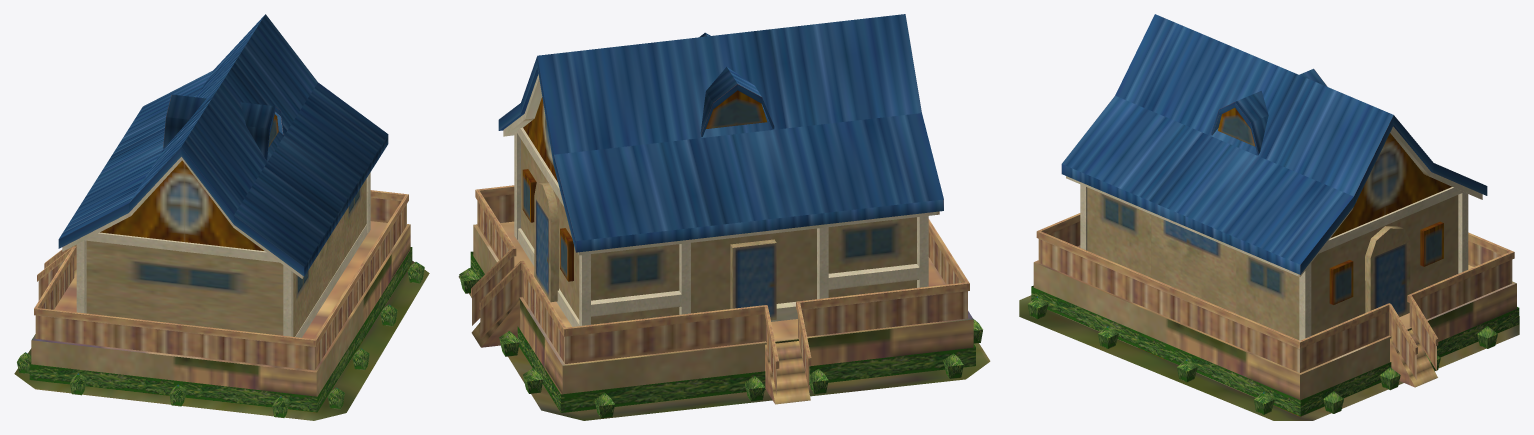
The model's file is ic_game.ico.obj.
The picture shows the model from 3 angles, left to right: view 1: azimuth 30°, elevation 25°; view 2: azimuth 150°, elevation 25°; view 3: azimuth 270°, elevation 25°; orthographic projection. The views are drawn at different scales.
Bounding box in the file's own units: 4.93 × 2.76 × 4.96.
1 material, 1 textured.
